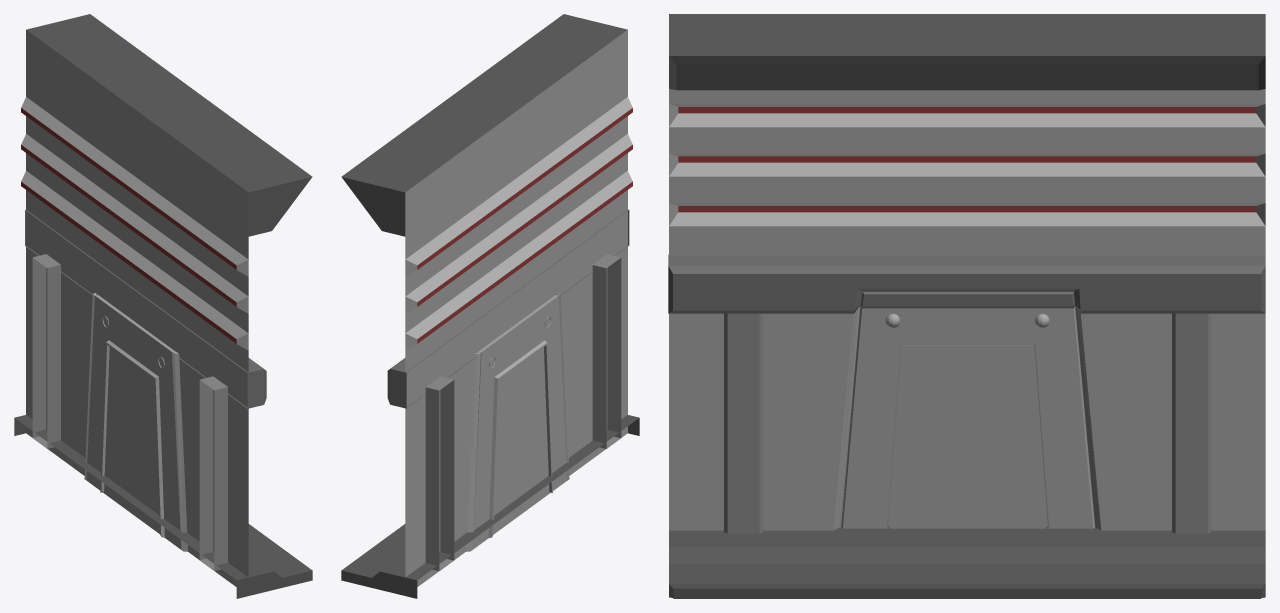
File: SM_Module_12.fbx
3 renders of one model, left to right at view 1: azimuth 30°, elevation 25°; view 2: azimuth 150°, elevation 25°; view 3: azimuth 270°, elevation 25°, orthographic. The views are drawn at different scales.
Visible parts, largest first — view 1: SM_Module_06; view 2: SM_Module_06; view 3: SM_Module_06.
Boxes of the visible parts, box(x1,y1,x2,y2) form: SM_Module_06: box(14, 14, 312, 598); SM_Module_06: box(341, 14, 639, 598); SM_Module_06: box(668, 14, 1265, 598).
Bounding box in the file's own units: 123 × 601 × 600.
